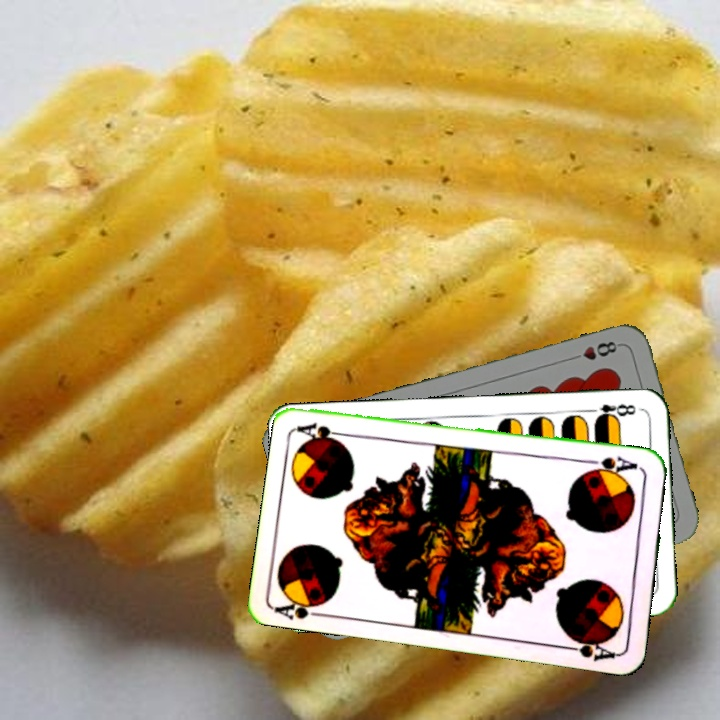E8: (583, 399, 638, 424)
H8: (566, 337, 624, 363)
SA: (271, 591, 332, 622), (584, 452, 645, 479)
